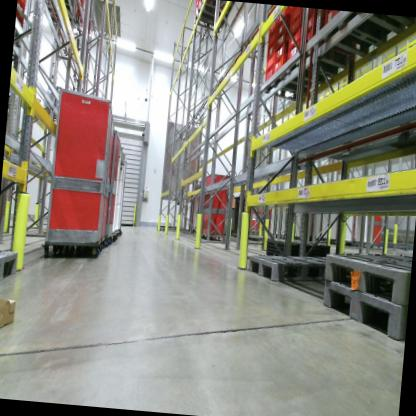pallet: (317, 277, 408, 343), (318, 249, 411, 310), (246, 240, 329, 299), (308, 20, 391, 77), (279, 50, 350, 95), (260, 70, 327, 114), (336, 13, 416, 49), (193, 1, 229, 40), (0, 245, 24, 292), (43, 11, 87, 32), (44, 0, 82, 22), (43, 0, 77, 6)
pallet_truck: (222, 184, 270, 242)
small_load_carrier: (298, 26, 316, 51), (16, 0, 30, 32), (285, 38, 302, 63), (272, 40, 290, 63), (287, 12, 303, 36), (302, 10, 318, 34), (274, 53, 288, 80), (287, 24, 302, 49), (275, 28, 290, 52), (275, 6, 291, 27), (263, 63, 276, 84), (277, 14, 290, 35), (264, 47, 275, 70), (267, 16, 279, 34), (288, 8, 302, 23), (268, 30, 278, 47), (268, 40, 277, 58), (17, 0, 26, 13), (78, 0, 86, 8), (195, 3, 199, 13), (198, 0, 202, 6)
